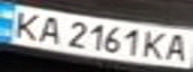1: (84, 21, 109, 52), (121, 26, 145, 57)
2: (63, 18, 90, 51)
6: (103, 24, 124, 55)
A: (33, 14, 66, 45), (163, 31, 193, 64)
K: (3, 8, 45, 41), (139, 28, 172, 61)
